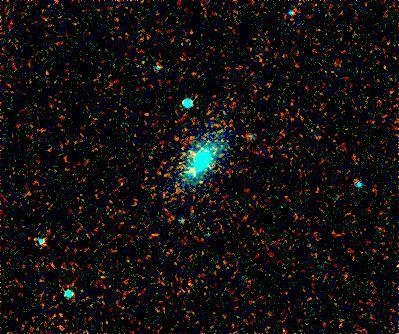star: (164, 125, 194, 155)
